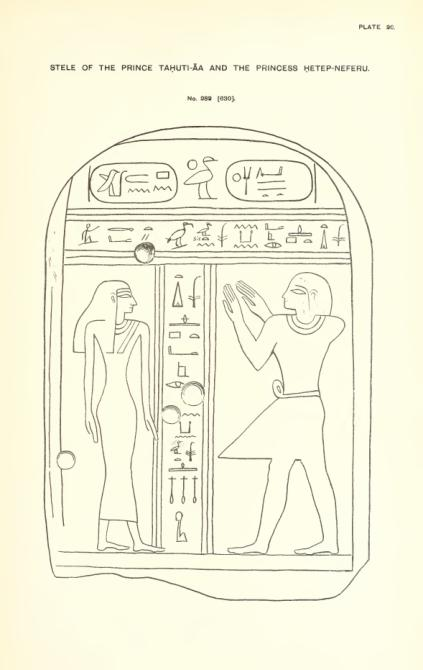circle: (223, 155, 322, 202), (85, 161, 180, 204)
